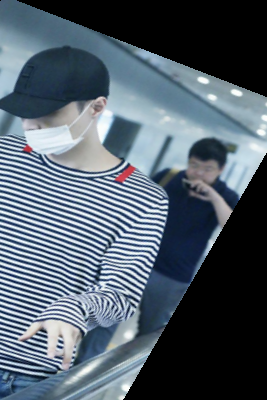mask_weared_incorrect: (1, 42, 120, 177)
